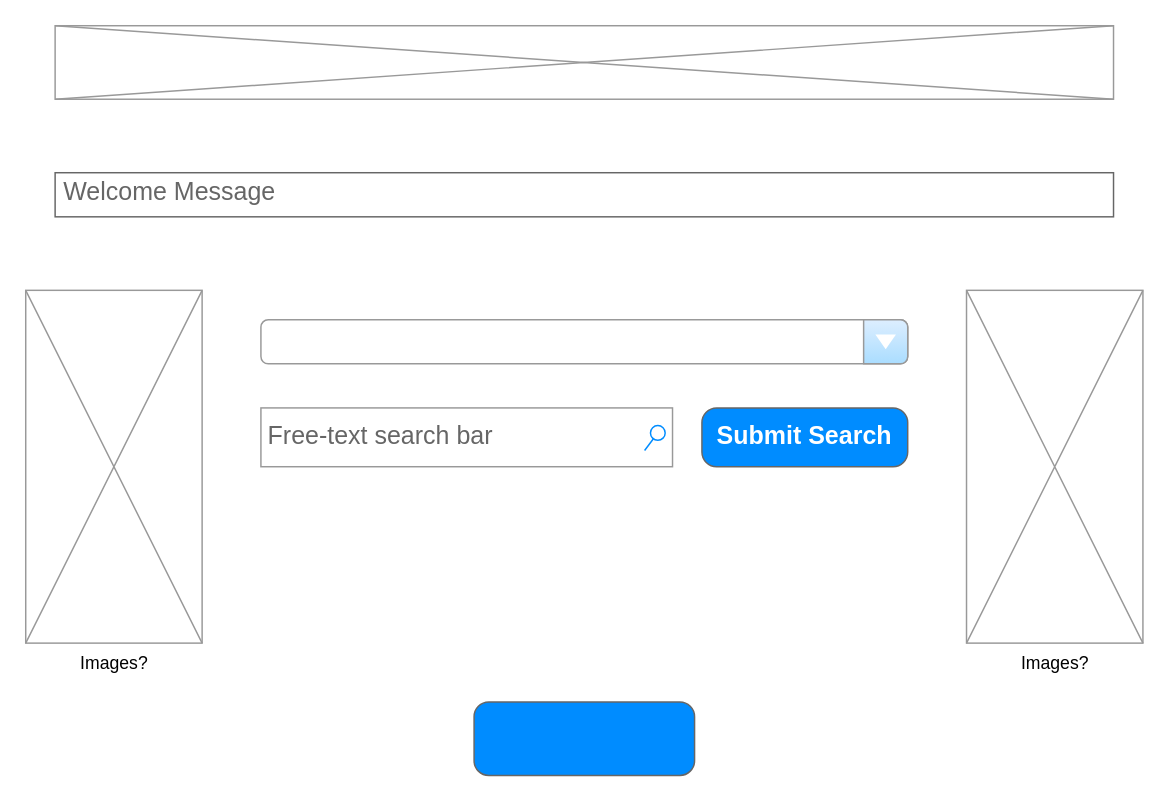
Image size: 1169x801. Some labels were removed from this diagram. Here are the shapes that lost their labels. From the top down, the centre of each, then its label:
At (x=584, y=61): "IMAGE BANNER".
At (x=583, y=341): "Ingredients List".
At (x=584, y=737): "Return Home".
